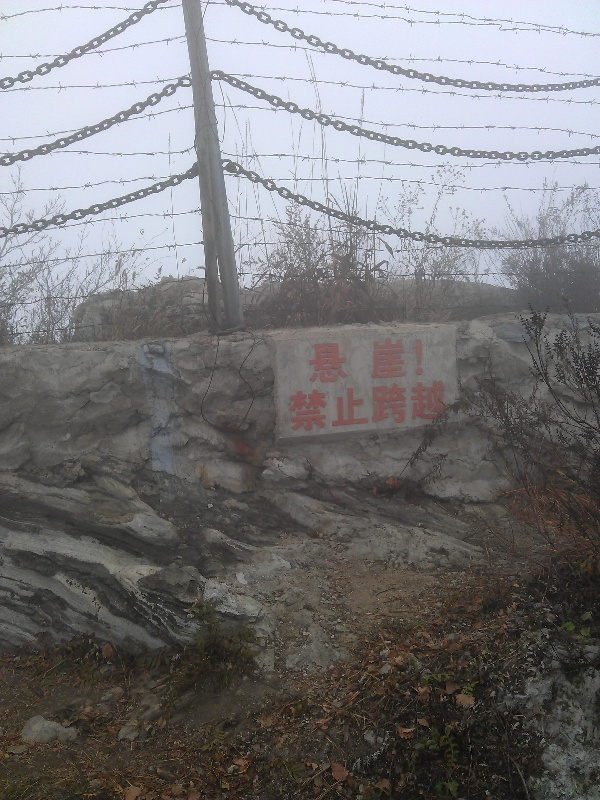text: (289, 379, 304, 432), (305, 379, 320, 432), (321, 379, 336, 432), (337, 379, 352, 432), (353, 379, 368, 432), (369, 379, 384, 432), (385, 379, 400, 432), (401, 379, 416, 432), (417, 379, 432, 432), (433, 379, 447, 432), (305, 336, 320, 385), (321, 336, 336, 385), (337, 336, 352, 385), (353, 336, 368, 385), (369, 336, 384, 385), (385, 336, 400, 385), (401, 336, 416, 385), (417, 336, 430, 385)
